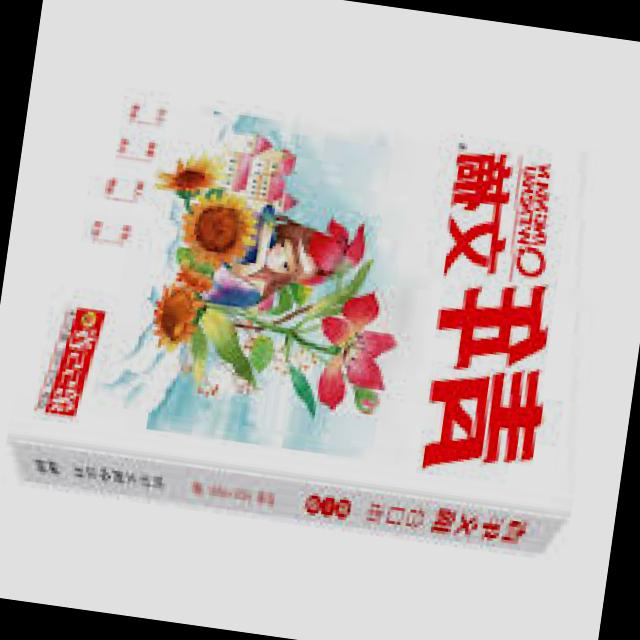paper: (0, 35, 609, 576)
